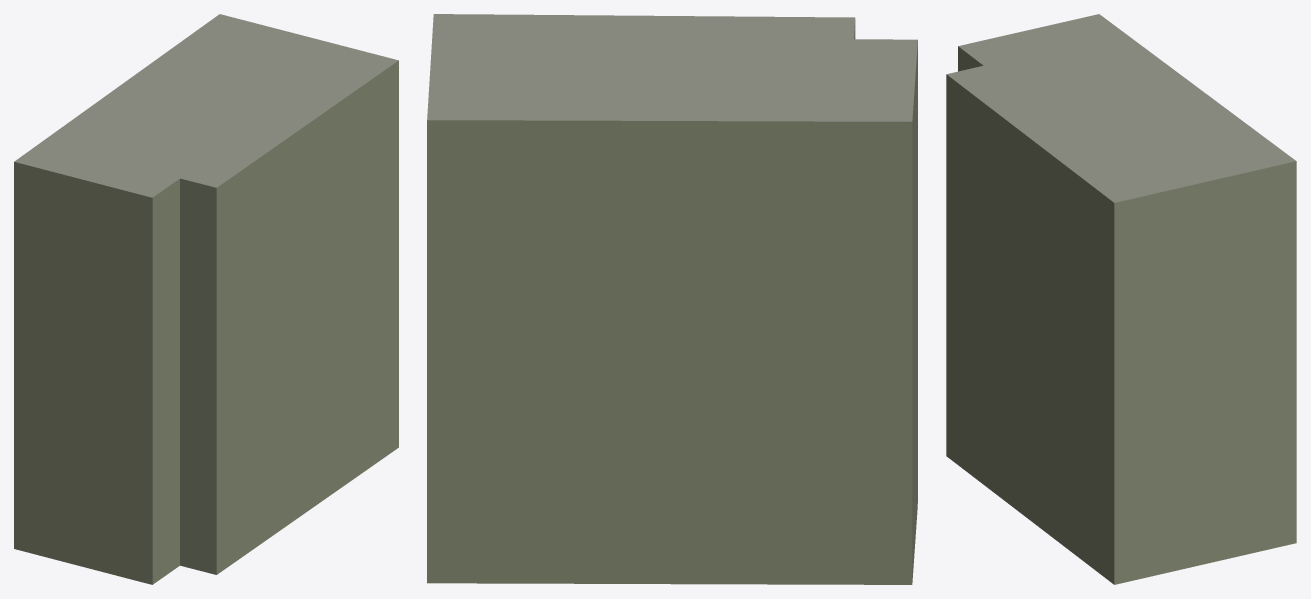
The model's file is nyc-1024648-0.glb.
3 renders of one model, left to right at view 1: azimuth 30°, elevation 25°; view 2: azimuth 150°, elevation 25°; view 3: azimuth 270°, elevation 25°, orthographic. The views are drawn at different scales.
Parts seen in each view (by area): view 1: nyc-1024648-0; view 2: nyc-1024648-0; view 3: nyc-1024648-0.
Part boxes in pixels (box(x1,y1,x2,y2)): nyc-1024648-0: box(14, 14, 398, 584); nyc-1024648-0: box(427, 14, 917, 584); nyc-1024648-0: box(946, 14, 1296, 584).
Bounding box in the file's own units: 33.68 × 31.75 × 26.37.
